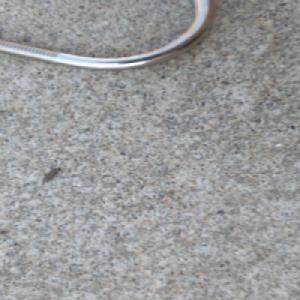ClampPart: (0, 0, 222, 74)
